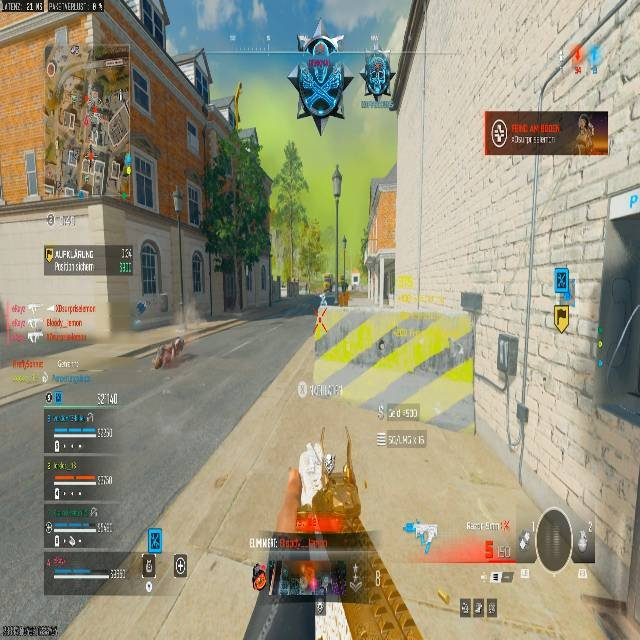player: (285, 17, 355, 136), (136, 299, 146, 315), (351, 276, 359, 291)
